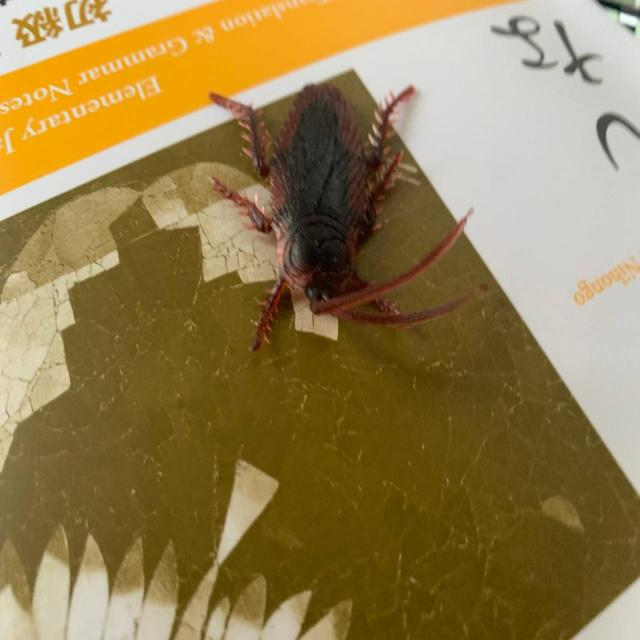Cockroach: (205, 58, 484, 370)
